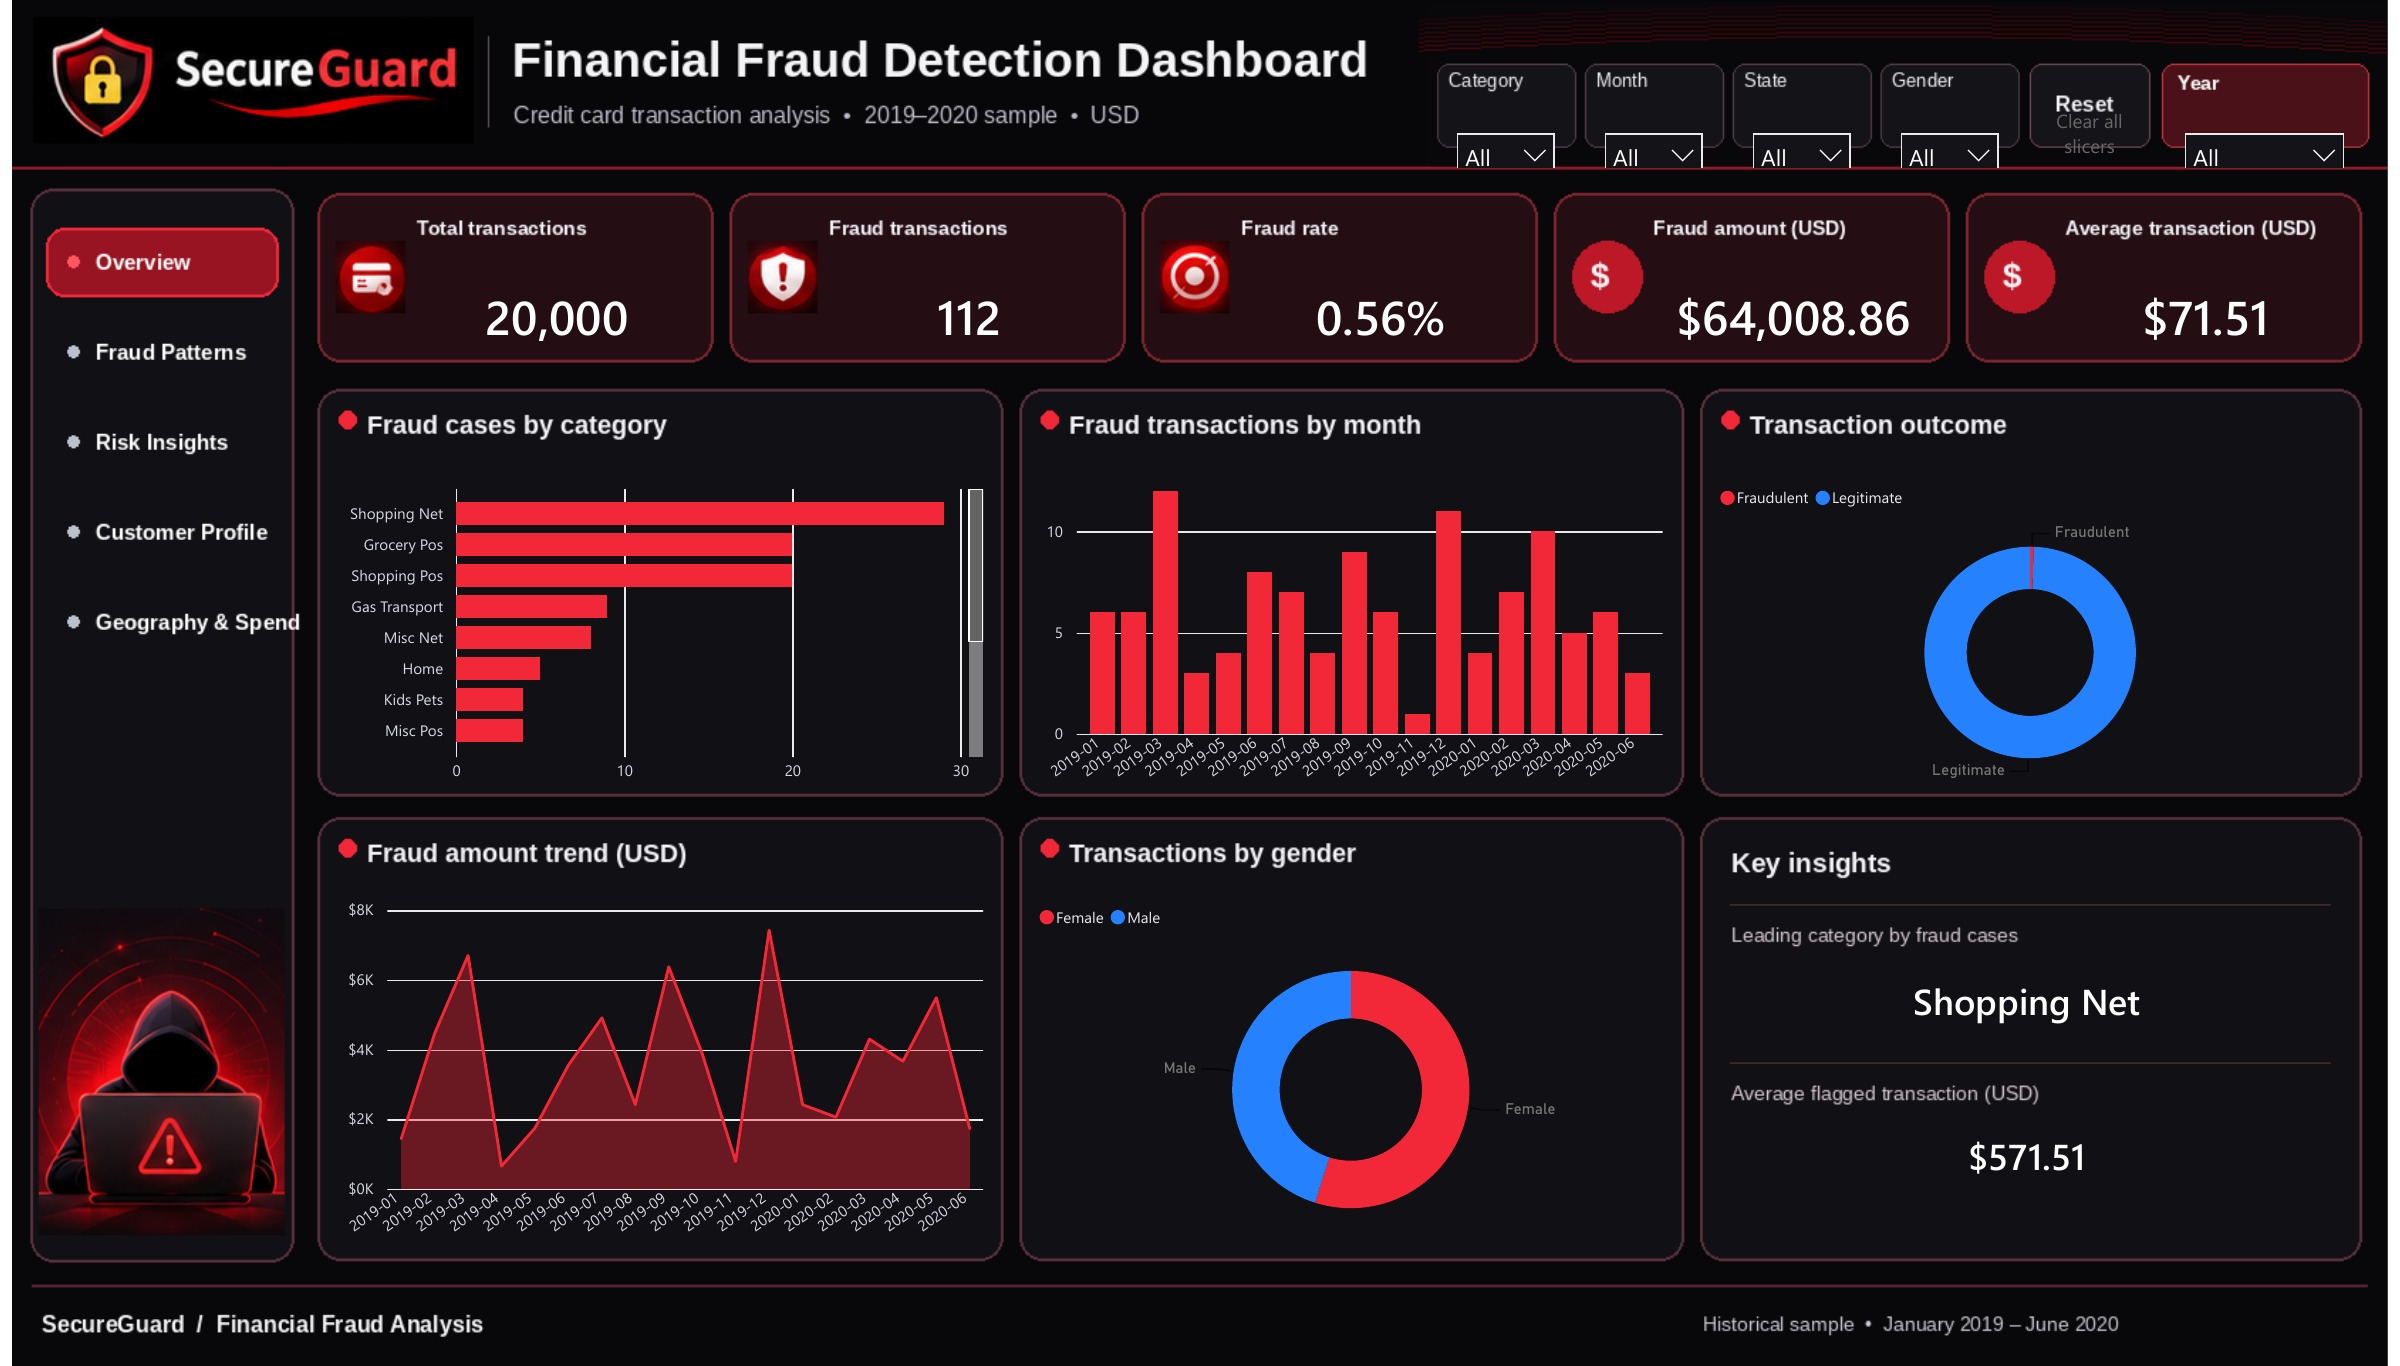

The page's visual inventory and layout, read from the dashboard file:
{"tool":"powerbi","page":{"name":"Fraud Overview","canvas":[1672,941],"ordinal":0},"visuals":[{"type":"slicer","fields":{"Values":["Transactions.Category"]},"box":[1007,64,89,34],"z":9000},{"type":"slicer","fields":{"Values":["Transactions.Month"]},"box":[1111,64,89,34],"z":10000},{"type":"slicer","fields":{"Values":["Transactions.State"]},"box":[1215,64,89,34],"z":11000},{"type":"slicer","fields":{"Values":["Transactions.Gender"]},"box":[1319,64,89,34],"z":12000},{"type":"actionButton","box":[1420,44,84,57],"z":14000},{"type":"card","fields":{"Fields":["Transactions.Total Transactions"]},"box":[282,169,203,69],"z":16000},{"type":"card","fields":{"Fields":["Transactions.Fraud Cases"]},"box":[572,169,203,69],"z":18000},{"type":"card","fields":{"Fields":["Transactions.Fraud Rate"]},"box":[862,169,203,69],"z":20000},{"type":"card","fields":{"Fields":["Transactions.Flagged Amount"]},"box":[1152,169,203,69],"z":23000},{"type":"card","fields":{"Fields":["Transactions.Average Amount"]},"box":[1442,169,203,69],"z":26000},{"type":"barChart","fields":{"Category":["Transactions.Category"],"Y":["Transactions.Fraud Cases"]},"box":[224,311,464,228],"z":28000},{"type":"columnChart","fields":{"Category":["Transactions.Month"],"Y":["Transactions.Fraud Cases"]},"box":[718,311,449,228],"z":30000},{"type":"donutChart","fields":{"Category":["Transactions.Transaction Outcome"],"Y":["Transactions.Total Transactions"]},"box":[1197,311,447,228],"z":32000},{"type":"areaChart","fields":{"Category":["Transactions.Month"],"Y":["Transactions.Flagged Amount"]},"box":[224,606,464,253],"z":34000},{"type":"donutChart","fields":{"Category":["Transactions.Gender"],"Y":["Transactions.Total Transactions"]},"box":[718,606,449,253],"z":36000},{"type":"card","fields":{"Fields":["Transactions.Top Fraud Category"]},"box":[1206,655,425,61],"z":39000},{"type":"card","fields":{"Fields":["Transactions.Average Flagged Transaction"]},"box":[1206,764,425,61],"z":41000},{"type":"actionButton","box":[24,157,163,47],"z":95000},{"type":"actionButton","box":[24,219,163,47],"z":95001},{"type":"actionButton","box":[24,281,163,47],"z":95002},{"type":"actionButton","box":[24,343,163,47],"z":95003},{"type":"actionButton","box":[24,405,163,47],"z":95004},{"type":"slicer","fields":{"Values":["Transactions.Year"]},"box":[1519,64,132,34],"z":95150}]}

Visuals, with their boxes in screenshot pixels (x1, y1, x2, y2), scaled from the page's 1672x941 canvas onto the 2400x1366 screenshot:
slicer - Transactions.Category: detection(1445, 93, 1573, 142)
slicer - Transactions.Month: detection(1595, 93, 1722, 142)
slicer - Transactions.State: detection(1744, 93, 1872, 142)
slicer - Transactions.Gender: detection(1893, 93, 2021, 142)
actionButton: detection(2038, 64, 2159, 147)
card - Transactions.Total Transactions: detection(405, 245, 696, 345)
card - Transactions.Fraud Cases: detection(821, 245, 1112, 345)
card - Transactions.Fraud Rate: detection(1237, 245, 1529, 345)
card - Transactions.Flagged Amount: detection(1654, 245, 1945, 345)
card - Transactions.Average Amount: detection(2070, 245, 2361, 345)
barChart - Transactions.Category x Transactions.Fraud Cases: detection(322, 451, 988, 782)
columnChart - Transactions.Month x Transactions.Fraud Cases: detection(1031, 451, 1675, 782)
donutChart - Transactions.Transaction Outcome x Transactions.Total Transactions: detection(1718, 451, 2360, 782)
areaChart - Transactions.Month x Transactions.Flagged Amount: detection(322, 880, 988, 1247)
donutChart - Transactions.Gender x Transactions.Total Transactions: detection(1031, 880, 1675, 1247)
card - Transactions.Top Fraud Category: detection(1731, 951, 2341, 1039)
card - Transactions.Average Flagged Transaction: detection(1731, 1109, 2341, 1198)
actionButton: detection(34, 228, 268, 296)
actionButton: detection(34, 318, 268, 386)
actionButton: detection(34, 408, 268, 476)
actionButton: detection(34, 498, 268, 566)
actionButton: detection(34, 588, 268, 656)
slicer - Transactions.Year: detection(2180, 93, 2370, 142)
